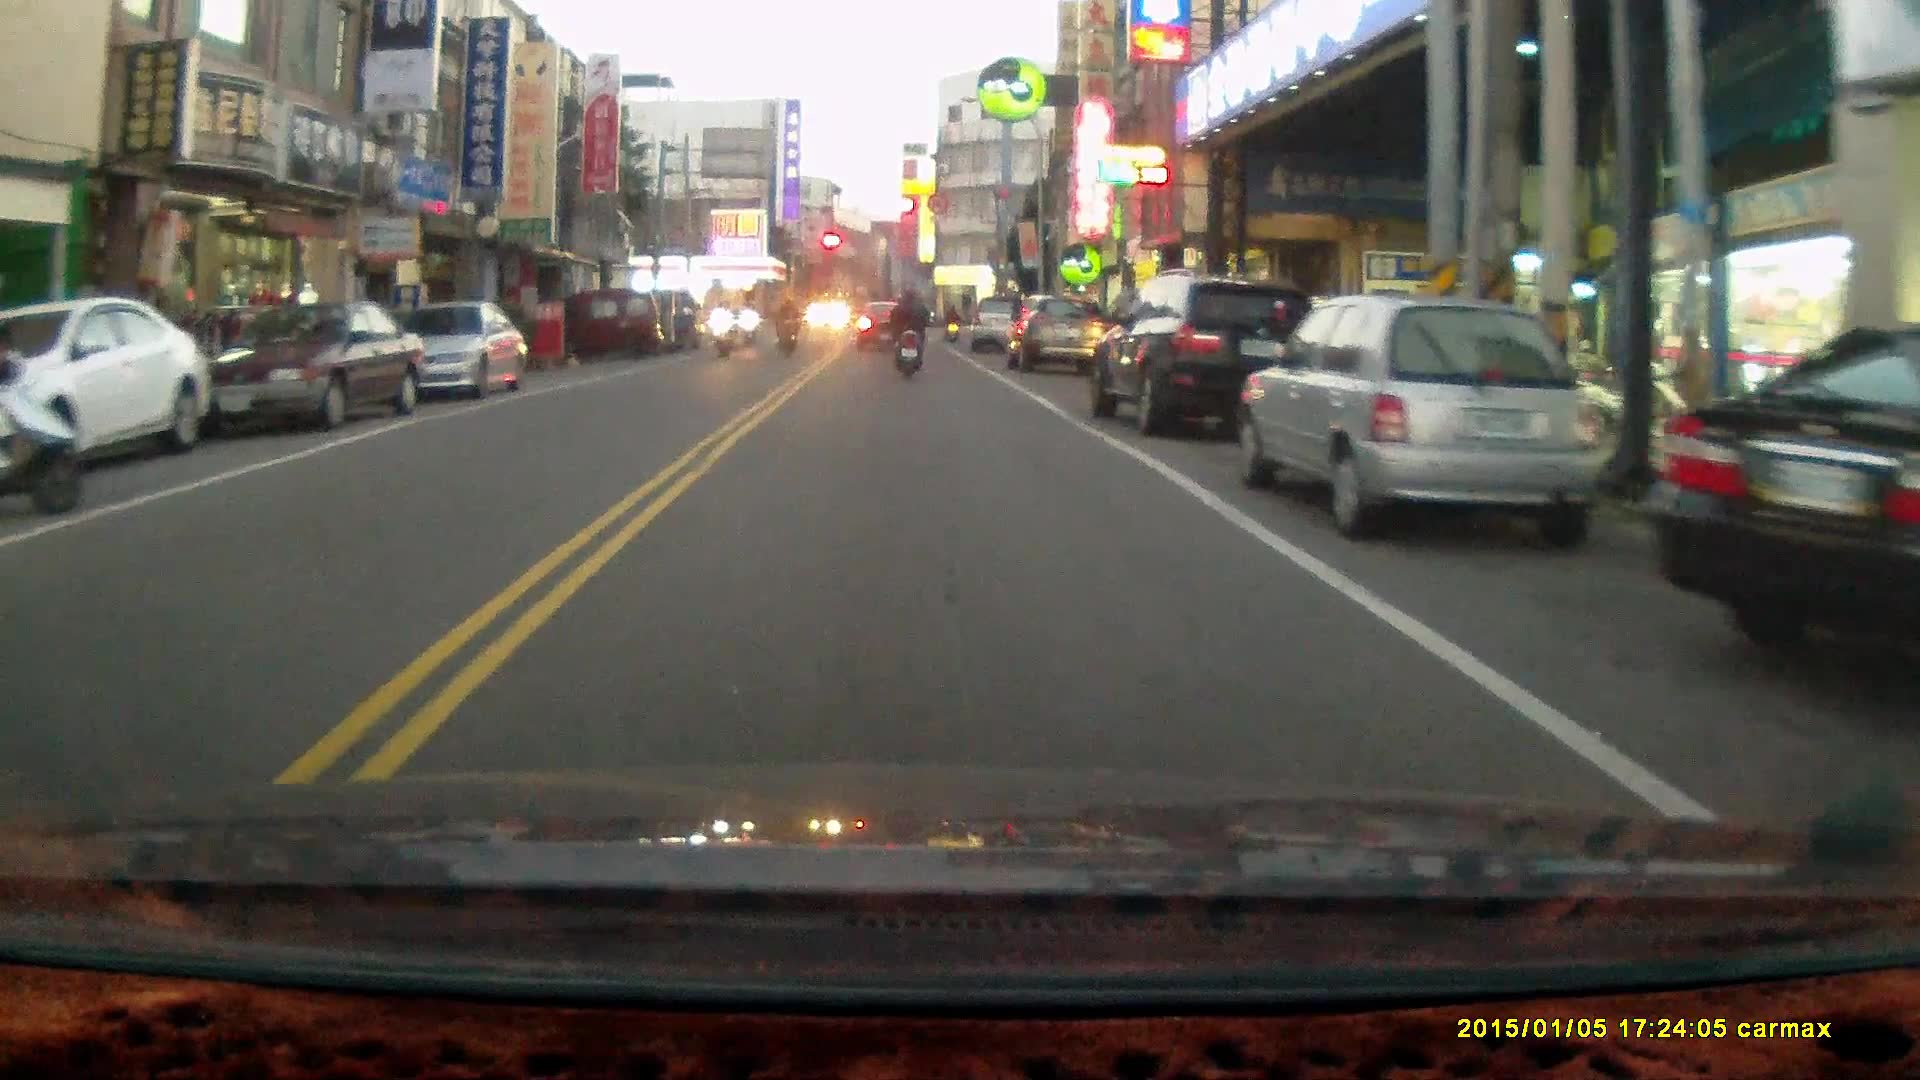rider: (0, 336, 85, 518), (887, 286, 928, 378), (710, 295, 738, 356), (772, 293, 800, 351), (735, 294, 760, 349), (939, 300, 961, 344)
vehicle: (1652, 320, 1920, 698), (1228, 295, 1614, 545), (2, 289, 218, 485), (1083, 271, 1322, 441), (172, 295, 424, 429), (381, 297, 529, 403), (1015, 292, 1114, 376), (581, 290, 664, 358), (970, 296, 1035, 352)
